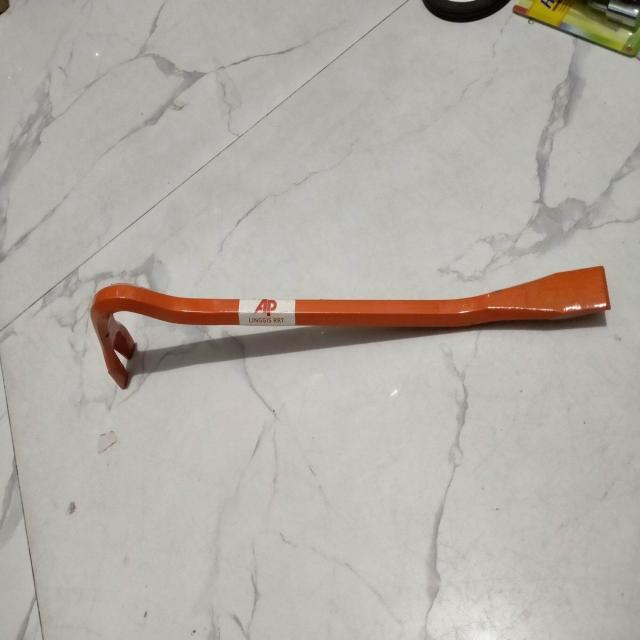Linggis: (78, 263, 612, 398)
